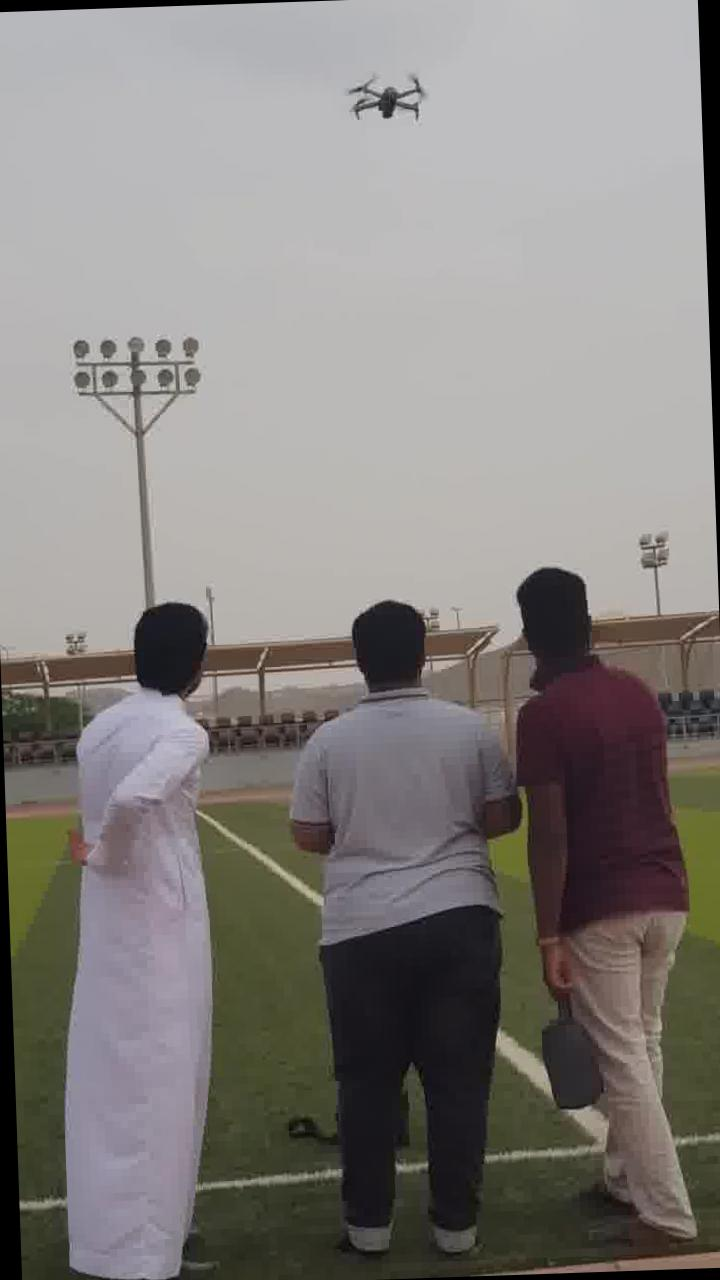drone: (340, 70, 436, 138)
